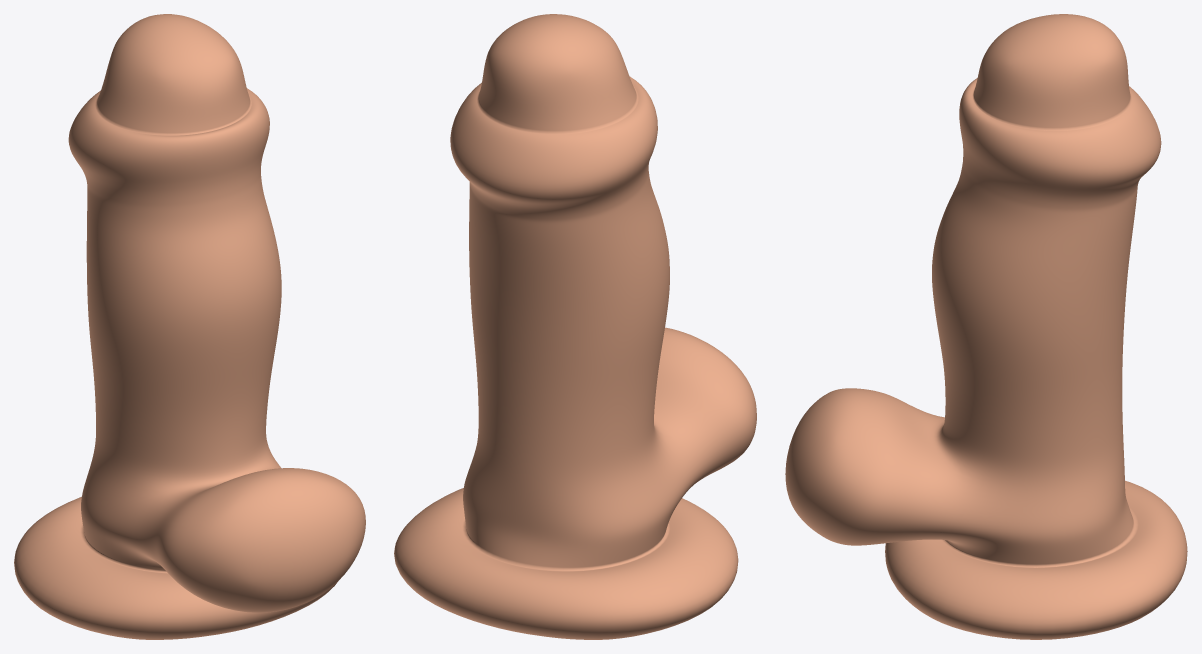
The model's file is dildo-floppy-v0.glb.
The picture shows the model from 3 angles, left to right: view 1: azimuth 30°, elevation 25°; view 2: azimuth 150°, elevation 25°; view 3: azimuth 270°, elevation 25°; orthographic projection. The views are drawn at different scales.
Visible parts, largest first — view 1: Ter; view 2: Ter; view 3: Ter.
Boxes of the visible parts, box(x1,y1,x2,y2) form: Ter: box(14, 14, 365, 639); Ter: box(394, 14, 756, 639); Ter: box(785, 14, 1187, 639).
Bounding box in the file's own units: 0.3225 × 0.593 × 0.3785.
